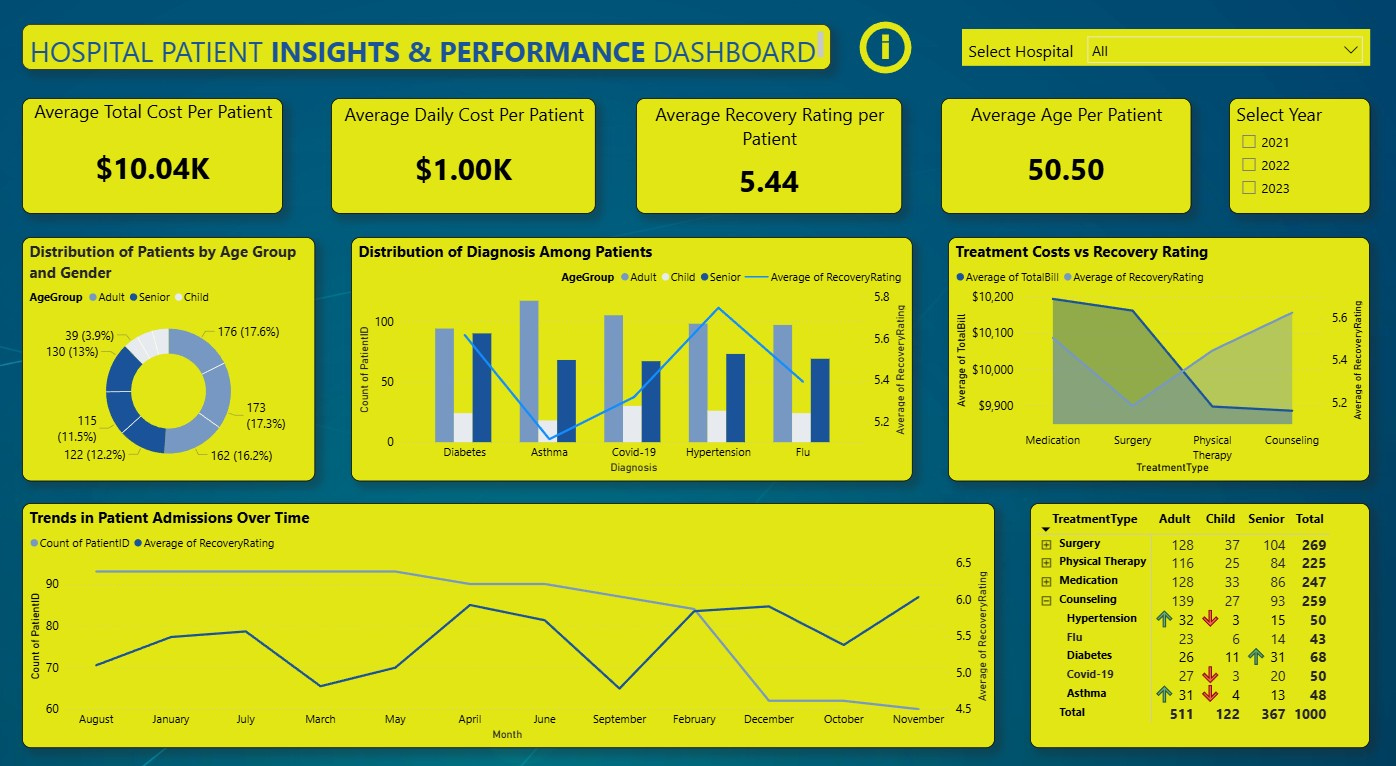

The page's visual inventory and layout, read from the dashboard file:
{"tool":"powerbi","page":{"name":"Hospital Insights Dahboard","canvas":[1920,1080],"ordinal":0},"visuals":[{"type":"textbox","box":[69.2,77.1,1076,61.2],"z":1000},{"type":"donutChart","title":"Distribution of Patients by Age Group and Gender","fields":{"Category":["Sheet1.AgeGroup"],"Y":["CountNonNull(Sheet1.Age)"],"Series":["Sheet1.Gender"]},"box":[69.2,360.4,389.7,324.5],"z":3000},{"type":"lineClusteredColumnComboChart","title":"Distribution of Diagnosis Among Patients","fields":{"Category":["Sheet1.Diagnosis"],"Y":["CountNonNull(Sheet1.PatientID)"],"Y2":["Avg(Sheet1 (2).RecoveryRating)"],"Series":["Sheet1.AgeGroup"]},"box":[506.7,360.4,747.5,324.5],"z":4000},{"type":"areaChart","title":"Treatment Costs vs Recovery Rating","fields":{"Category":["Sheet1 (2).TreatmentType"],"Y":["Avg(Sheet1.TotalBill)"],"Y2":["Avg(Sheet1 (2).RecoveryRating)"]},"box":[1300.8,360.4,561.3,324.5],"z":5000},{"type":"pivotTable","fields":{"Rows":["Sheet1 (2).TreatmentType","Sheet1.Diagnosis"],"Columns":["Sheet1.AgeGroup"],"Values":["CountNonNull(Sheet1.PatientID)"]},"box":[1409.9,714.2,452.2,325.9],"z":6000},{"type":"lineChart","title":"Trends in Patient Admissions Over Time","fields":{"Y":["CountNonNull(Sheet1.PatientID)"],"Category":["Sheet1.Month"],"Y2":["Avg(Sheet1 (2).RecoveryRating)"]},"box":[69.2,714.2,1294.1,325.9],"z":7000},{"type":"card","title":"Average Total Cost Per Patient","fields":{"Values":["Avg(Sheet1.TotalBill)"]},"box":[69.2,175.6,347.1,154.3],"z":8000},{"type":"card","title":"Average Daily Cost Per Patient","fields":{"Values":["Avg(Sheet1 (2).DailyCost)"]},"box":[480.1,175.6,352.5,154.3],"z":9000},{"type":"card","title":"Average Recovery Rating per Patient","fields":{"Values":["Avg(Sheet1 (2).RecoveryRating)"]},"box":[885.8,175.6,353.8,154.3],"z":10000},{"type":"card","title":"Average Age Per Patient","fields":{"Values":["Avg(Sheet1.Age)"]},"box":[1291.5,175.6,332.5,154.3],"z":11000},{"type":"slicer","title":"Select Hospital","fields":{"Values":["Sheet1 (2).Hospital"]},"box":[1476.4,83.8,385.7,49.2],"z":12000},{"type":"slicer","title":"Select Year","fields":{"Values":["Sheet1.Year"]},"box":[1674.5,175.6,187.5,154.3],"z":13000},{"type":"textbox","box":[1319.4,83.8,156.9,49],"z":14000},{"type":"actionButton","box":[1168.6,60,97.1,97.1],"z":17000},{"type":"card","fields":{"Values":["Sum(Sheet1.Age)"]},"box":[1181.1,78.5,73.2,61.2],"z":17500}]}

Visuals, with their boxes in screenshot pixels (x1, y1, x2, y2), scaled from the page's 1920x1080 canvas onto the 1396x766 screenshot:
textbox: detection(50, 55, 833, 98)
"Distribution of Patients by Age Group and Gender" donutChart: detection(50, 256, 334, 486)
"Distribution of Diagnosis Among Patients" lineClusteredColumnComboChart: detection(368, 256, 912, 486)
"Treatment Costs vs Recovery Rating" areaChart: detection(946, 256, 1354, 486)
pivotTable - Sheet1 (2).TreatmentType x Sheet1.Diagnosis: detection(1025, 507, 1354, 738)
"Trends in Patient Admissions Over Time" lineChart: detection(50, 507, 991, 738)
"Average Total Cost Per Patient" card: detection(50, 125, 303, 234)
"Average Daily Cost Per Patient" card: detection(349, 125, 605, 234)
"Average Recovery Rating per Patient" card: detection(644, 125, 901, 234)
"Average Age Per Patient" card: detection(939, 125, 1181, 234)
"Select Hospital" slicer: detection(1073, 59, 1354, 94)
"Select Year" slicer: detection(1218, 125, 1354, 234)
textbox: detection(959, 59, 1073, 94)
actionButton: detection(850, 43, 920, 111)
card - Sum(Sheet1.Age): detection(859, 56, 912, 99)
